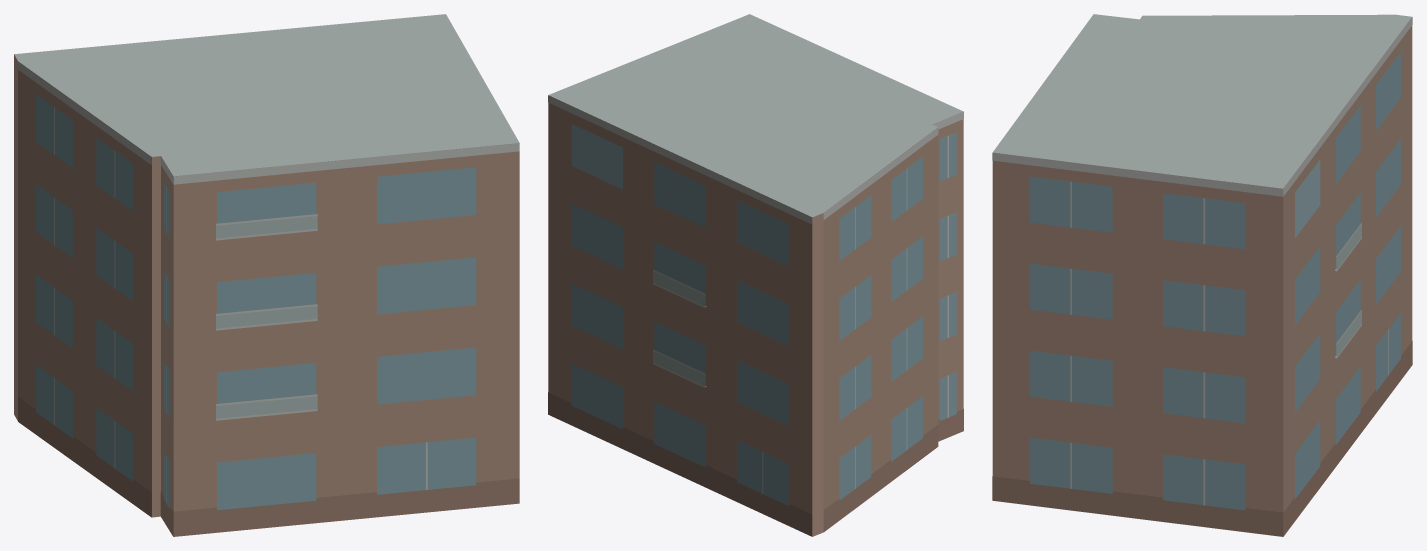
Rendered from survey-upis-33011461.glb.
The picture shows the model from 3 angles, left to right: view 1: azimuth 30°, elevation 25°; view 2: azimuth 150°, elevation 25°; view 3: azimuth 270°, elevation 25°; orthographic projection. The views are drawn at different scales.
Visible parts, largest first — view 1: survey-upis-33011461.tmp; view 2: survey-upis-33011461.tmp; view 3: survey-upis-33011461.tmp.
Part boxes in pixels (bbox=[...]): survey-upis-33011461.tmp: bbox=[14, 14, 519, 536]; survey-upis-33011461.tmp: bbox=[548, 14, 963, 536]; survey-upis-33011461.tmp: bbox=[992, 14, 1412, 536].
Bounding box in the file's own units: 11.31 × 10.5 × 11.49.
